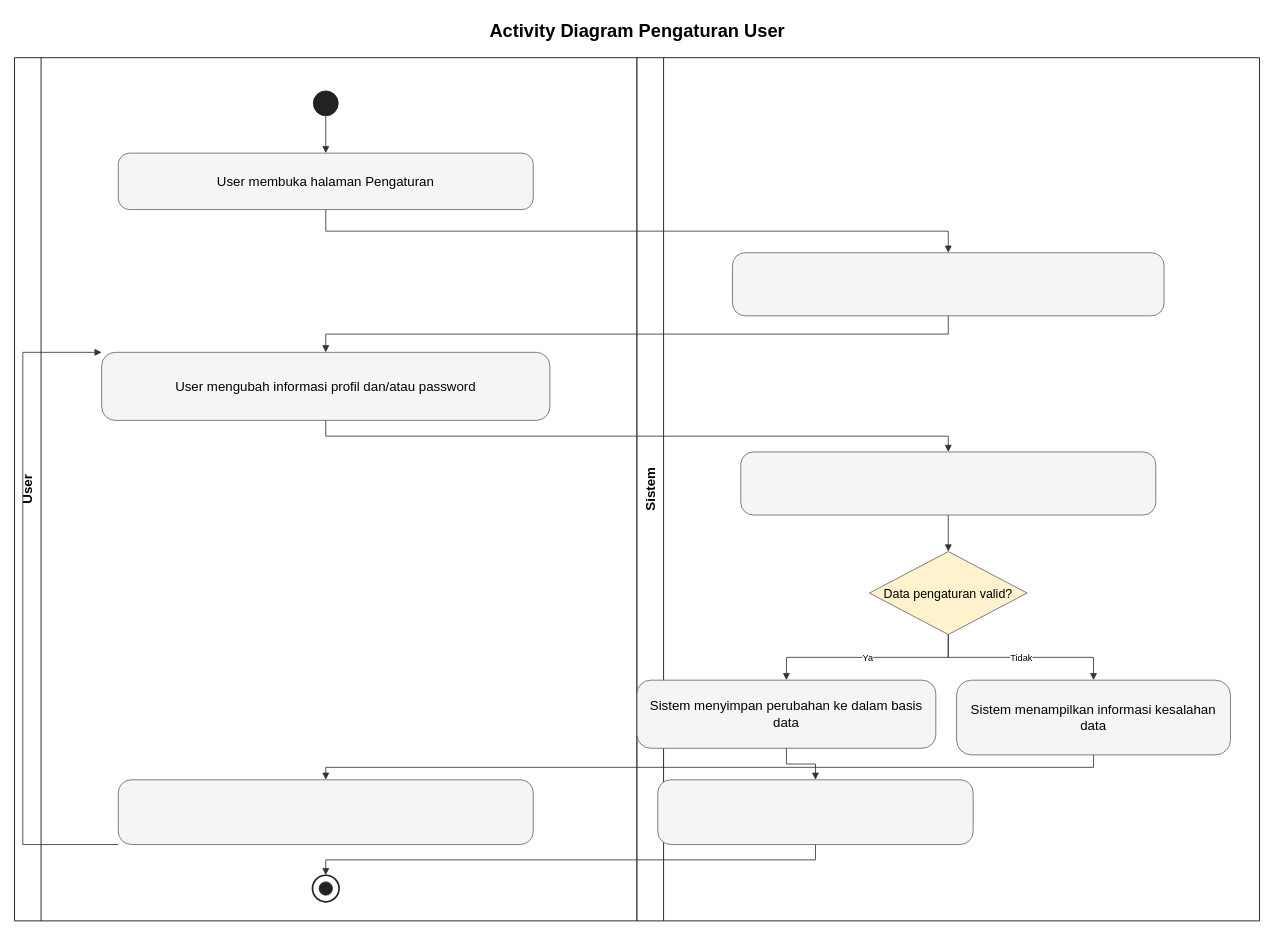
Image size: 1274x935. Some labels were removed from this diagram. The centre of each missing label's shape, as x and y in pixels:
Sistem memvalidasi perubahan pengaturan: the point at 948,483
Sistem menampilkan informasi profil dan pengaturan akun: the point at 948,284
Sistem menampilkan notifikasi perubahan berhasil disimpan: the point at 815,812
User memperbaiki data pengaturan: the point at 325,812
